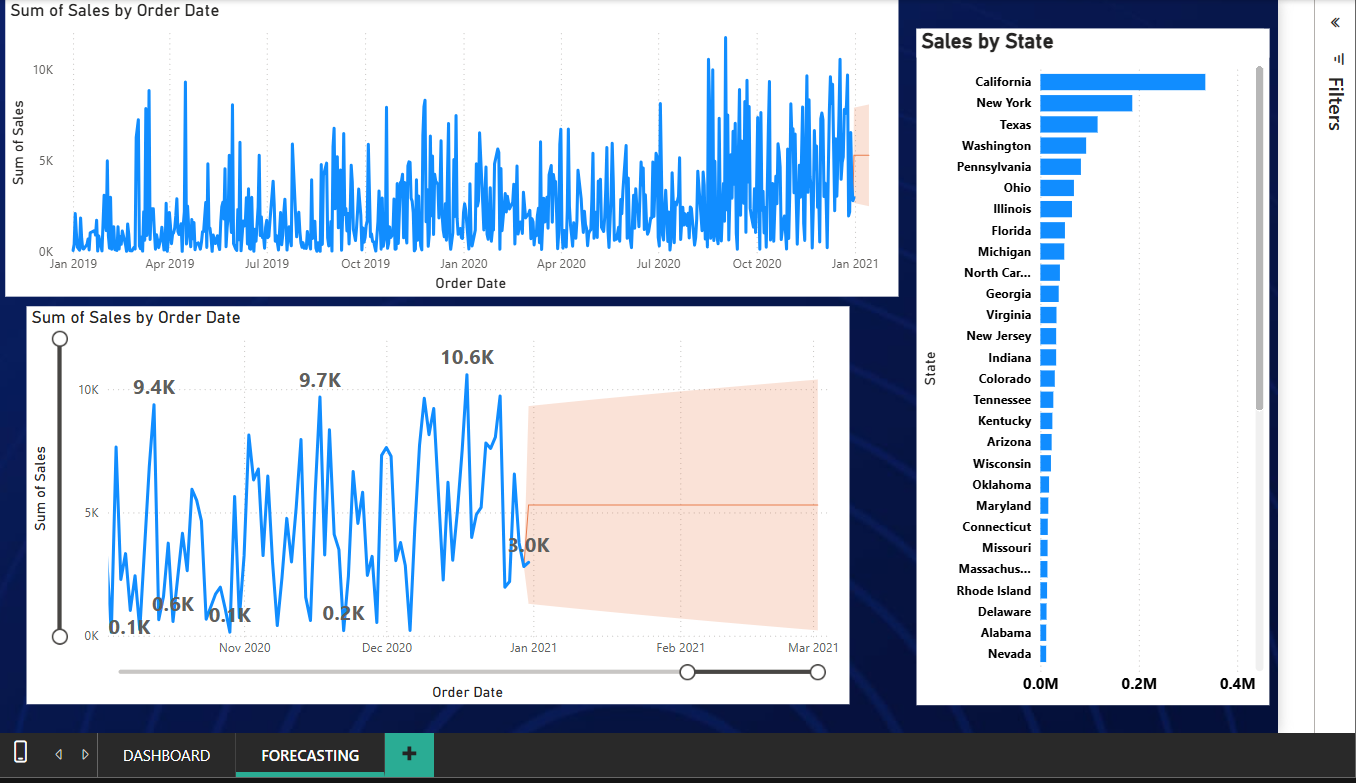

The page's visual inventory and layout, read from the dashboard file:
{"tool":"powerbi","page":{"name":"FORECASTING","canvas":[1280,720],"ordinal":1},"visuals":[{"type":"lineChart","fields":{"Y":["Sum(SuperStore_Sales_Dataset (1).Sales)"],"Category":["SuperStore_Sales_Dataset (1).Order Date"]},"box":[31.1,0,877,291.1],"z":0},{"type":"lineChart","fields":{"Y":["Sum(SuperStore_Sales_Dataset (1).Sales)"],"Category":["SuperStore_Sales_Dataset (1).Order Date"]},"box":[51,301,807.3,390.6],"z":1000},{"type":"clusteredBarChart","title":" Sales by State","fields":{"Category":["SuperStore_Sales_Dataset (1).State"],"Y":["Sum(SuperStore_Sales_Dataset (1).Sales)"]},"box":[925.2,28.2,346,663.8],"z":2000}]}

Visuals, with their boxes in screenshot pixels (x1, y1, x2, y2):
lineChart - Sum(SuperStore_Sales_Dataset (1).Sales) x SuperStore_Sales_Dataset (1).Order Date: detection(14, 4, 897, 297)
lineChart - Sum(SuperStore_Sales_Dataset (1).Sales) x SuperStore_Sales_Dataset (1).Order Date: detection(34, 307, 847, 700)
" Sales by State" clusteredBarChart: detection(915, 32, 1263, 701)
